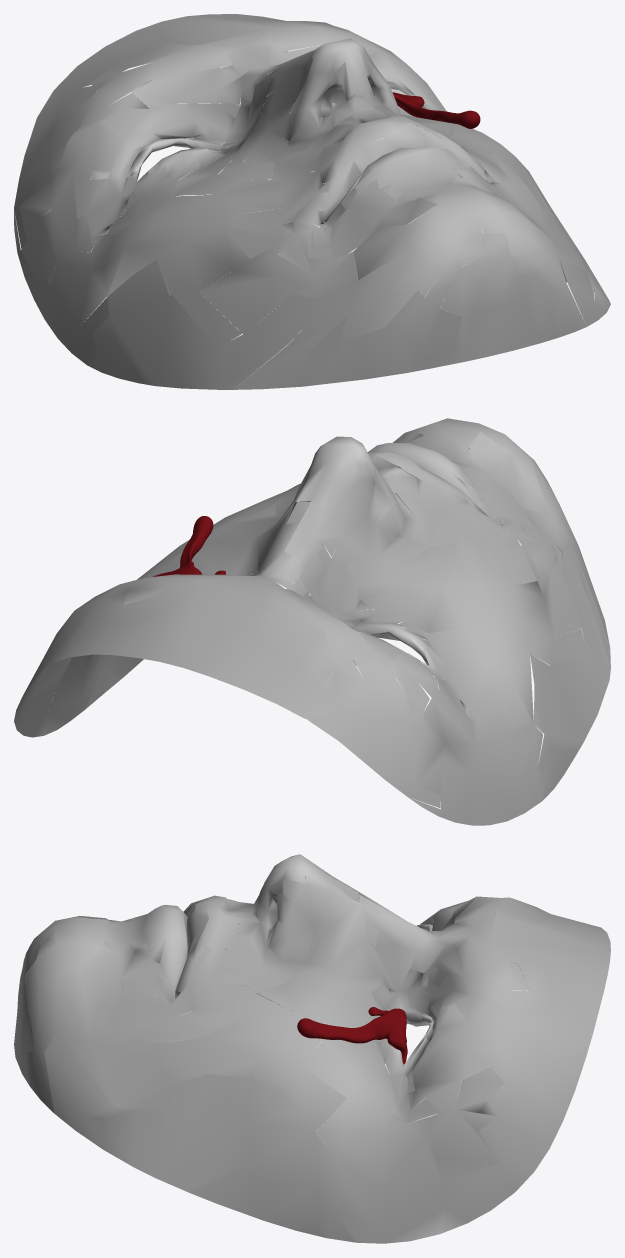
File: mask.fbx
3 renders of one model, top to bottom at view 1: azimuth 30°, elevation 25°; view 2: azimuth 150°, elevation 25°; view 3: azimuth 270°, elevation 25°, orthographic. The views are drawn at different scales.
Parts seen in each view (by area): view 1: blMilMan_m4b_68498-sk, Mball.007; view 2: blMilMan_m4b_68498-sk, Mball.007; view 3: blMilMan_m4b_68498-sk, Mball.007.
Boxes of the visible parts, <box> form: blMilMan_m4b_68498-sk: <box>14,14,610,389</box>; Mball.007: <box>392,92,480,128</box>; blMilMan_m4b_68498-sk: <box>14,418,610,825</box>; Mball.007: <box>153,516,225,576</box>; blMilMan_m4b_68498-sk: <box>14,854,610,1243</box>; Mball.007: <box>297,1007,407,1063</box>.
Size of the model in its own units: 1460 by 931 by 1795.
